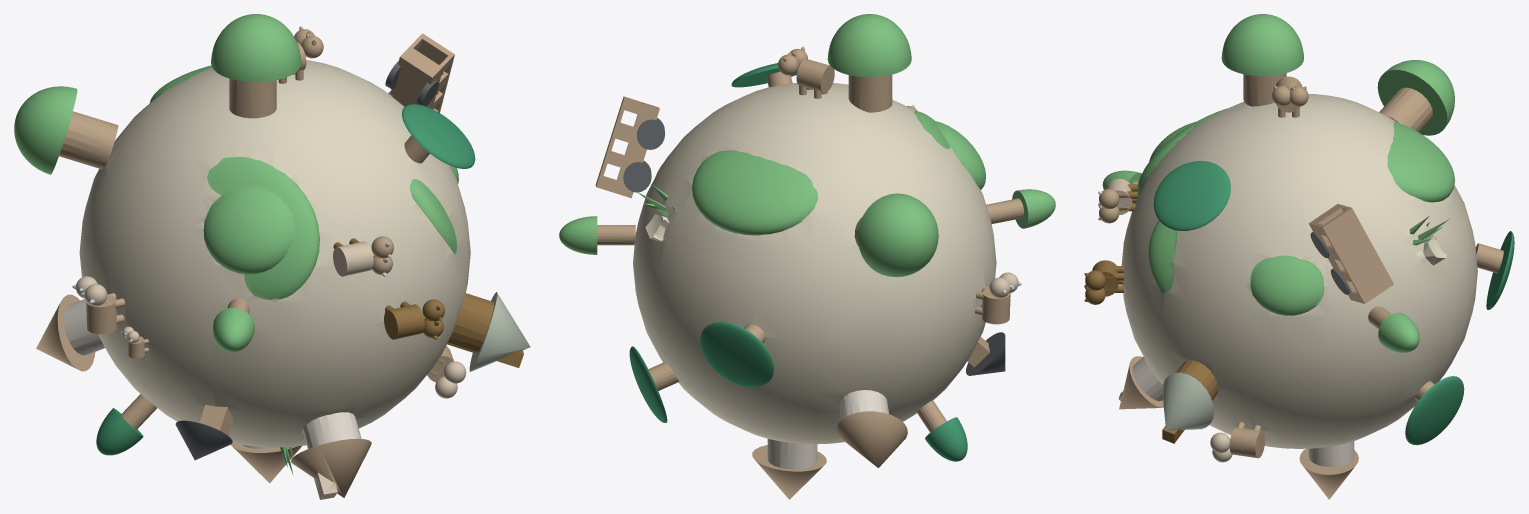
3 renders of one model, left to right at view 1: azimuth 30°, elevation 25°; view 2: azimuth 150°, elevation 25°; view 3: azimuth 270°, elevation 25°, orthographic. The views are drawn at different scales.
Parts seen in each view (by area): view 1: Mesh_Mesh_head_geo.001_lambert2SG.001_0; view 2: Mesh_Mesh_head_geo.001_lambert2SG.001_0; view 3: Mesh_Mesh_head_geo.001_lambert2SG.001_0.
Part boxes in pixels (x1=…): Mesh_Mesh_head_geo.001_lambert2SG.001_0: x1=14, y1=14, x2=530, y2=499; Mesh_Mesh_head_geo.001_lambert2SG.001_0: x1=559, y1=14, x2=1055, y2=499; Mesh_Mesh_head_geo.001_lambert2SG.001_0: x1=1084, y1=14, x2=1514, y2=499.
Size of the model in its own units: 0.8903 by 1.03 by 0.87.
